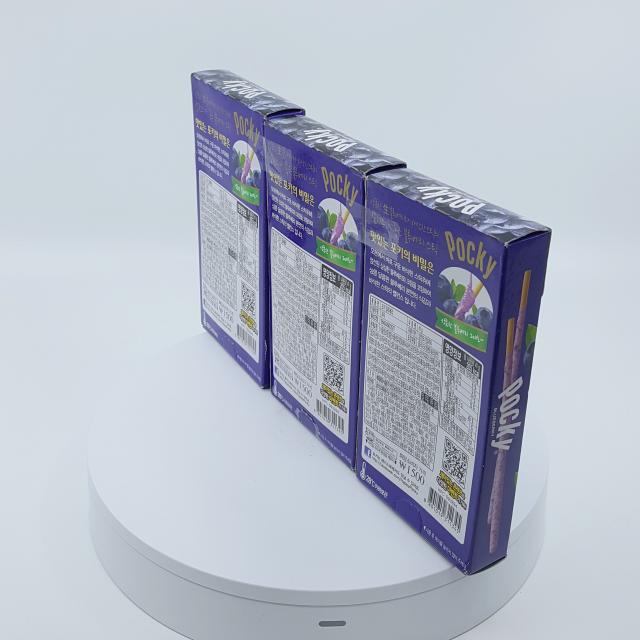-41G: (355, 169, 553, 577), (264, 115, 408, 472), (191, 70, 306, 390)
